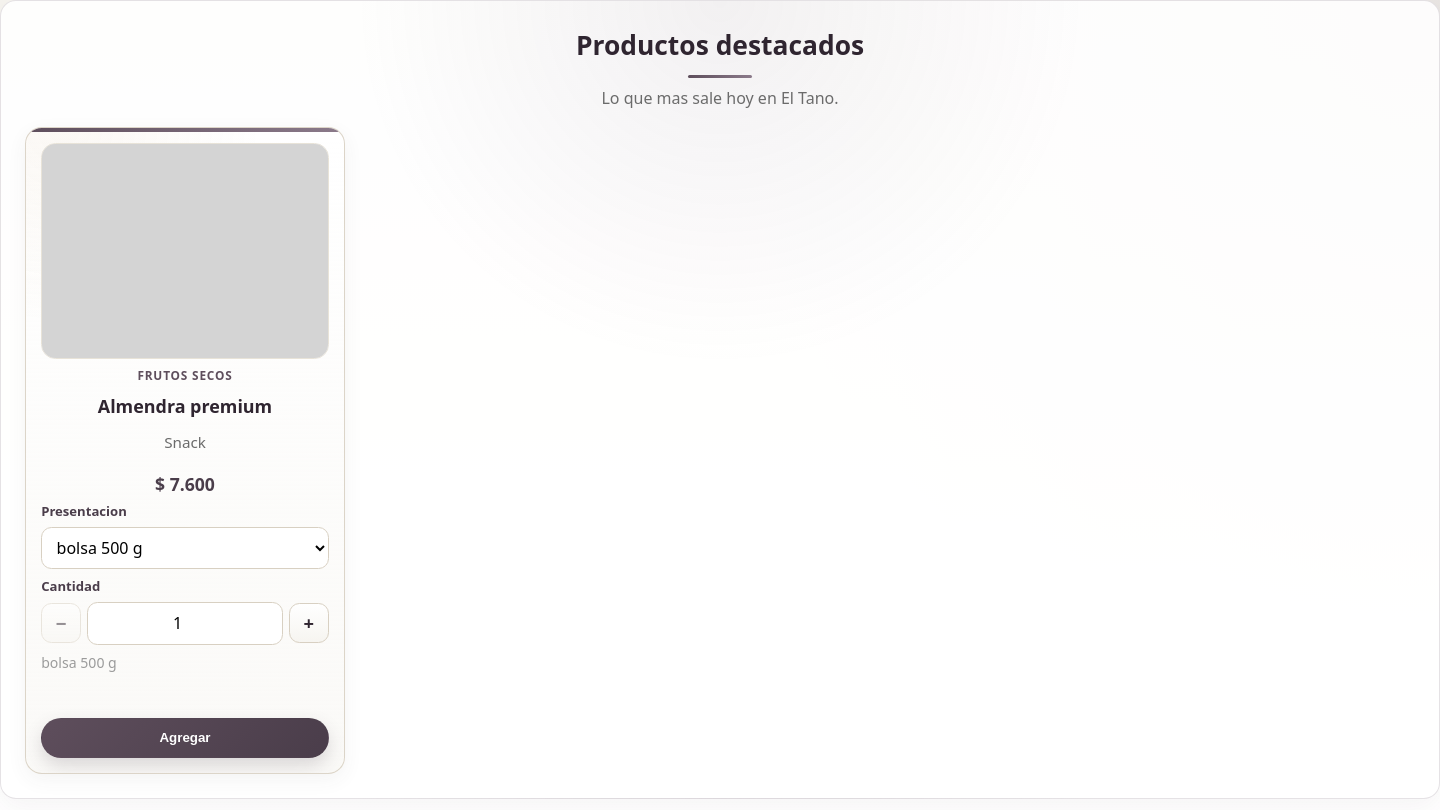
Test: FeaturedProductsSection › shows the selected presentation price instead of "Desde" for multi-variant product cards
Expected: the text "$ 7.600" is shown, [155,476,215,494]
Select "bolsa 250 g" in the dropdown named "Presentacion para Almendra premium" at (185, 548), box [41,527,329,569]
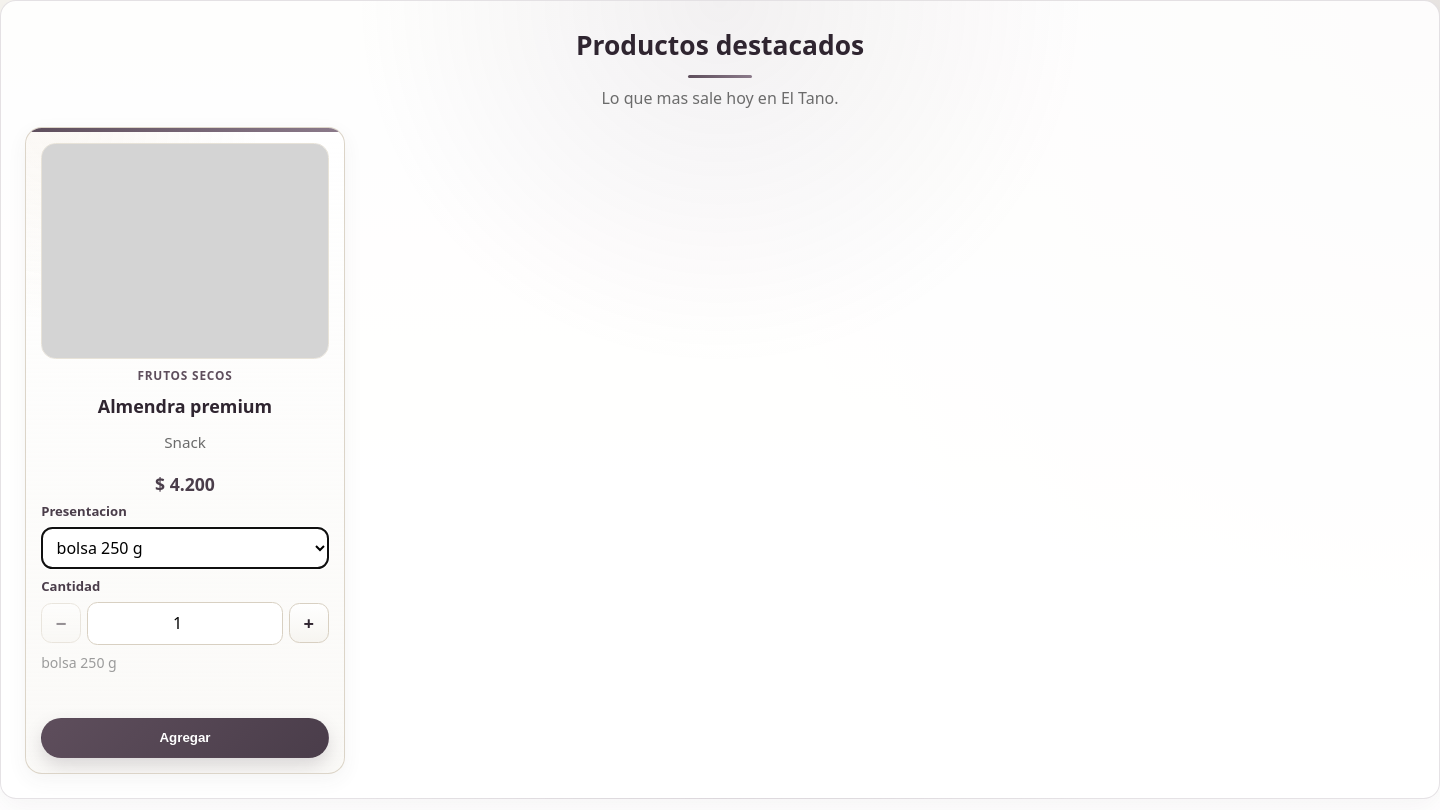
Expected: the text "$ 4.200" is shown, [155,476,215,494]
